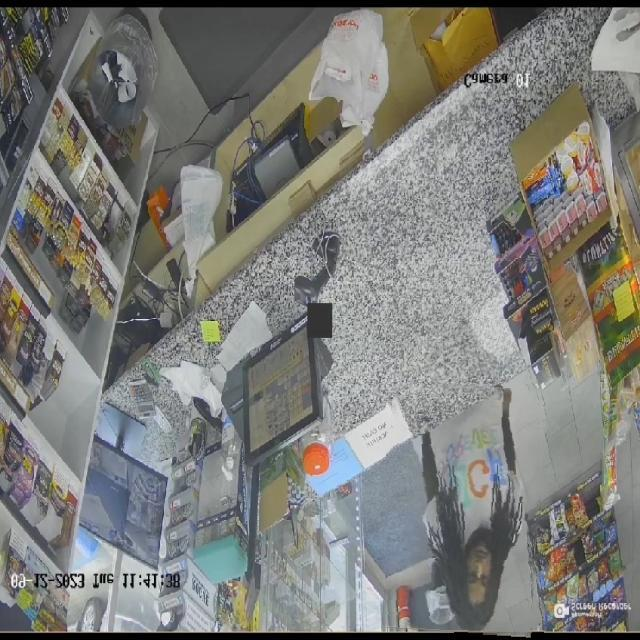normal: (386, 384, 544, 635)
